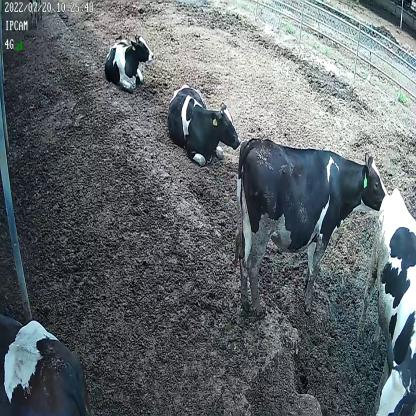cow: (233, 135, 391, 324), (355, 182, 416, 415), (166, 80, 242, 169), (102, 30, 154, 93)
